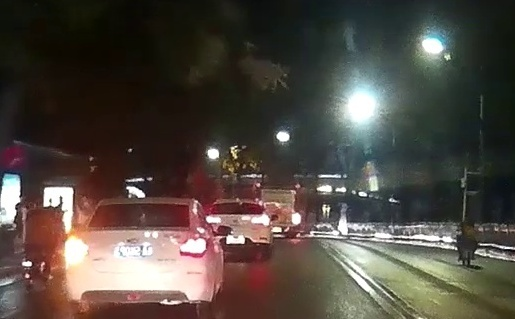L_light: (66, 239, 89, 256)
R_light: (180, 238, 207, 257)
T_light: (133, 204, 153, 207)
night-left: (64, 195, 215, 319)
